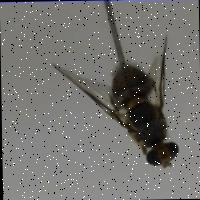Oriental-fruit-fly: (53, 24, 186, 178)
